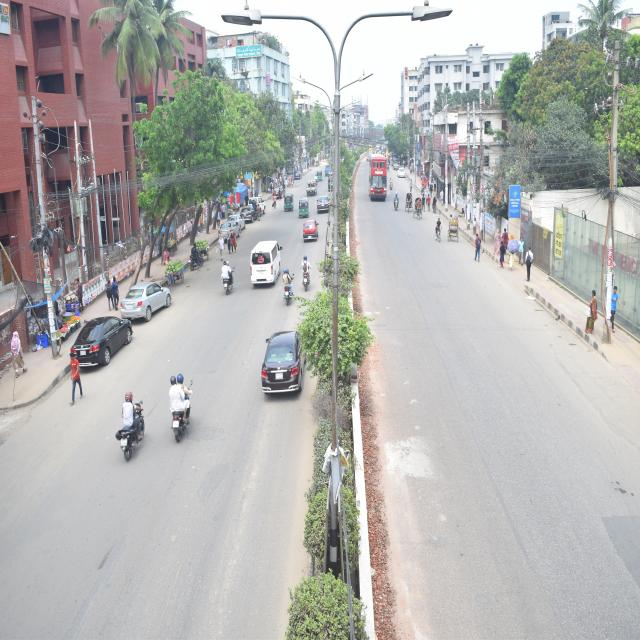bus: (367, 149, 390, 205)
car: (73, 311, 132, 371), (261, 326, 307, 402), (117, 279, 174, 323), (216, 218, 245, 246), (299, 218, 321, 249), (248, 190, 270, 218), (240, 204, 262, 228), (317, 195, 332, 215), (398, 163, 408, 182)
microbus: (246, 233, 281, 288)
motorbike: (117, 392, 146, 468), (165, 385, 200, 441), (300, 254, 318, 292), (282, 266, 297, 308), (222, 266, 236, 298), (391, 188, 400, 214)
